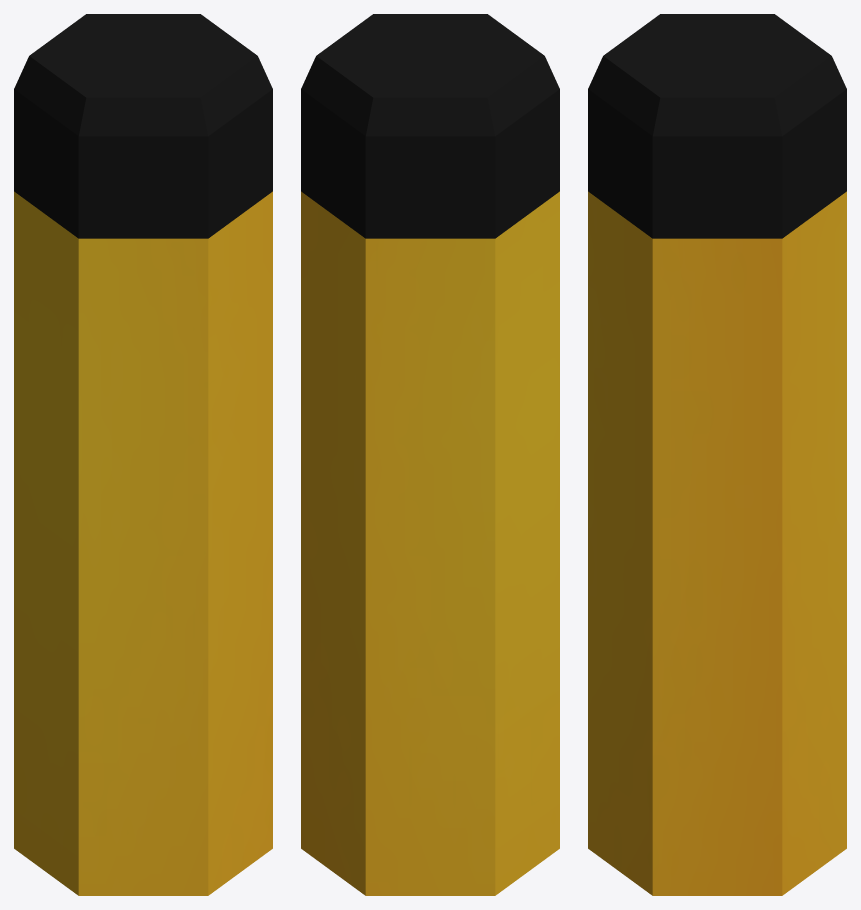
Rendered from hairSpray.fbx.
The picture shows the model from 3 angles, left to right: view 1: azimuth 30°, elevation 25°; view 2: azimuth 150°, elevation 25°; view 3: azimuth 270°, elevation 25°; orthographic projection.
Visible parts, largest first — view 1: hairSpray; view 2: hairSpray; view 3: hairSpray.
Boxes of the visible parts, x1,y1,x2,y2 form: hairSpray: [14, 14, 272, 895]; hairSpray: [301, 14, 559, 895]; hairSpray: [588, 14, 846, 895].
Bounding box in the file's own units: 0.0482 × 0.188 × 0.0556.
